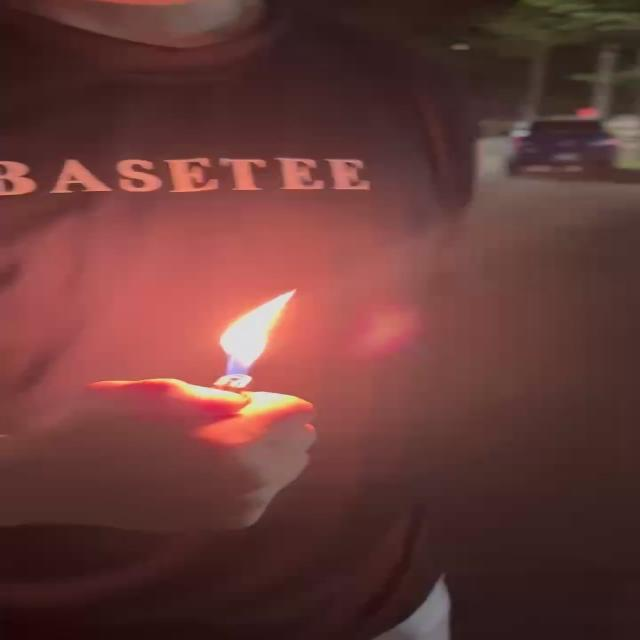Fire: (218, 286, 302, 383)
